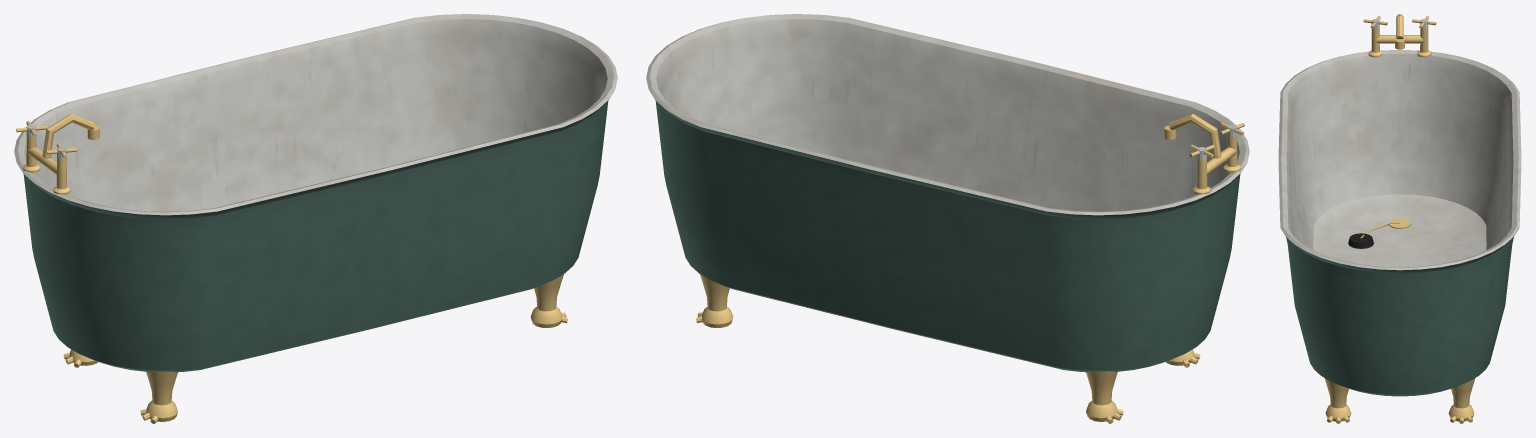
Rendered from banheira.glb.
3 views of the same model, side by side, from view 1: azimuth 30°, elevation 25°; view 2: azimuth 150°, elevation 25°; view 3: azimuth 270°, elevation 25° (orthographic). The views are drawn at different scales.
Parts seen in each view (by area): view 1: banheira; view 2: banheira; view 3: banheira.
Boxes of the visible parts, x1,y1,x2,y2 form: banheira: (14, 14, 617, 423); banheira: (646, 14, 1249, 423); banheira: (1278, 14, 1521, 423).
Size of the model in its own units: 1.61 by 0.7838 by 0.75.
1 material, 1 textured.
